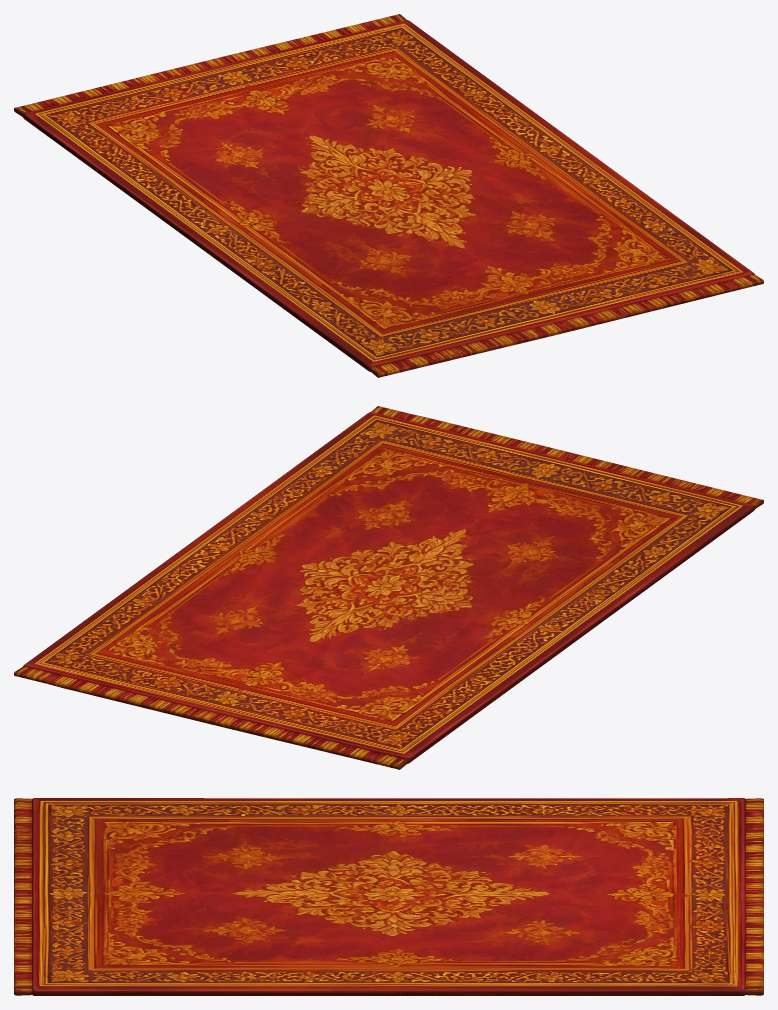
Rendered from ornate+red+rug+3d+model.fbx.
3 renders of one model, top to bottom at view 1: azimuth 30°, elevation 25°; view 2: azimuth 150°, elevation 25°; view 3: azimuth 270°, elevation 25°, orthographic. The views are drawn at different scales.
Visible parts, largest first — view 1: tripo_4b41c9c8_0ee8_4fc9_91f9_9dda58911101; view 2: tripo_4b41c9c8_0ee8_4fc9_91f9_9dda58911101; view 3: tripo_4b41c9c8_0ee8_4fc9_91f9_9dda58911101.
Boxes of the visible parts, x1,y1,x2,y2 form: tripo_4b41c9c8_0ee8_4fc9_91f9_9dda58911101: (14,14,763,377); tripo_4b41c9c8_0ee8_4fc9_91f9_9dda58911101: (14,406,763,769); tripo_4b41c9c8_0ee8_4fc9_91f9_9dda58911101: (14,798,763,995).
Size of the model in its own units: 0.6108 by 0.0103 by 0.9995.
